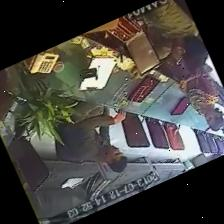person: (59, 101, 126, 172), (139, 2, 206, 72), (141, 2, 206, 71), (167, 59, 223, 130)
